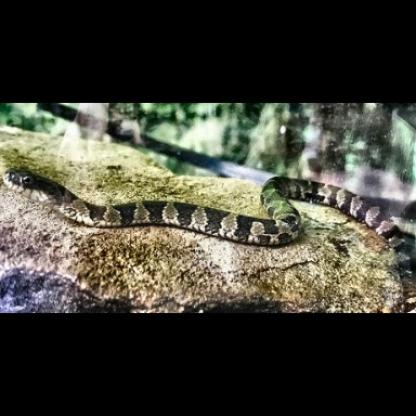Snake: (0, 168, 411, 253)
